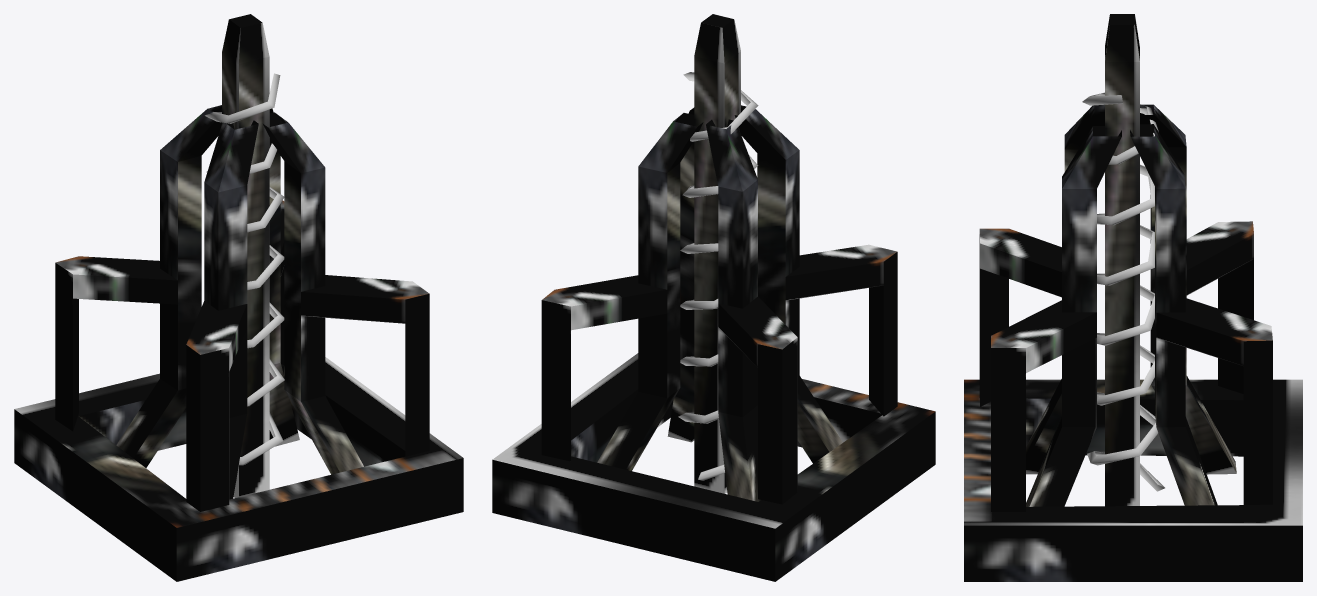
Rendered from driil2.FBX.
3 renders of one model, left to right at view 1: azimuth 30°, elevation 25°; view 2: azimuth 150°, elevation 25°; view 3: azimuth 270°, elevation 25°, orthographic. The views are drawn at different scales.
Visible parts, largest first — view 1: Box005, Spring001; view 2: Box005, Spring001; view 3: Box005, Spring001.
Part boxes in pixels (box(x1,y1,x2,y2)): Box005: box(14, 14, 463, 581); Spring001: box(205, 73, 284, 465); Box005: box(492, 14, 935, 581); Spring001: box(678, 72, 758, 480); Box005: box(964, 14, 1302, 581); Spring001: box(1082, 92, 1164, 491).
Bounding box in the file's own units: 79.57 × 78.05 × 125.
